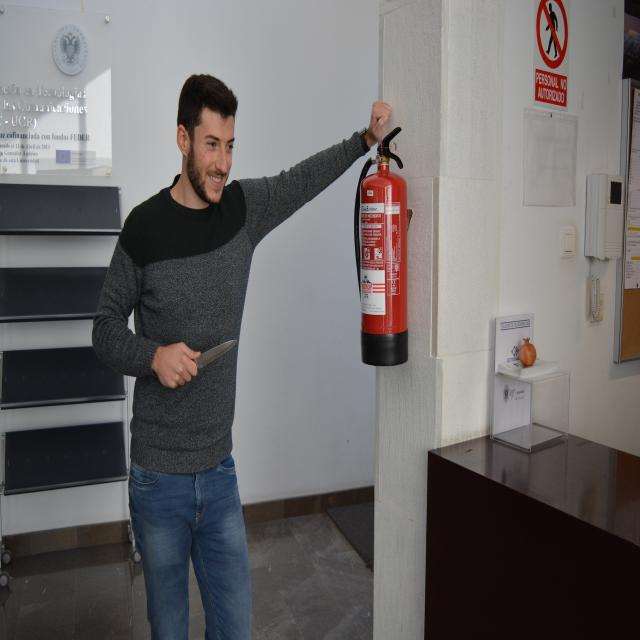knife: (194, 333, 239, 376)
